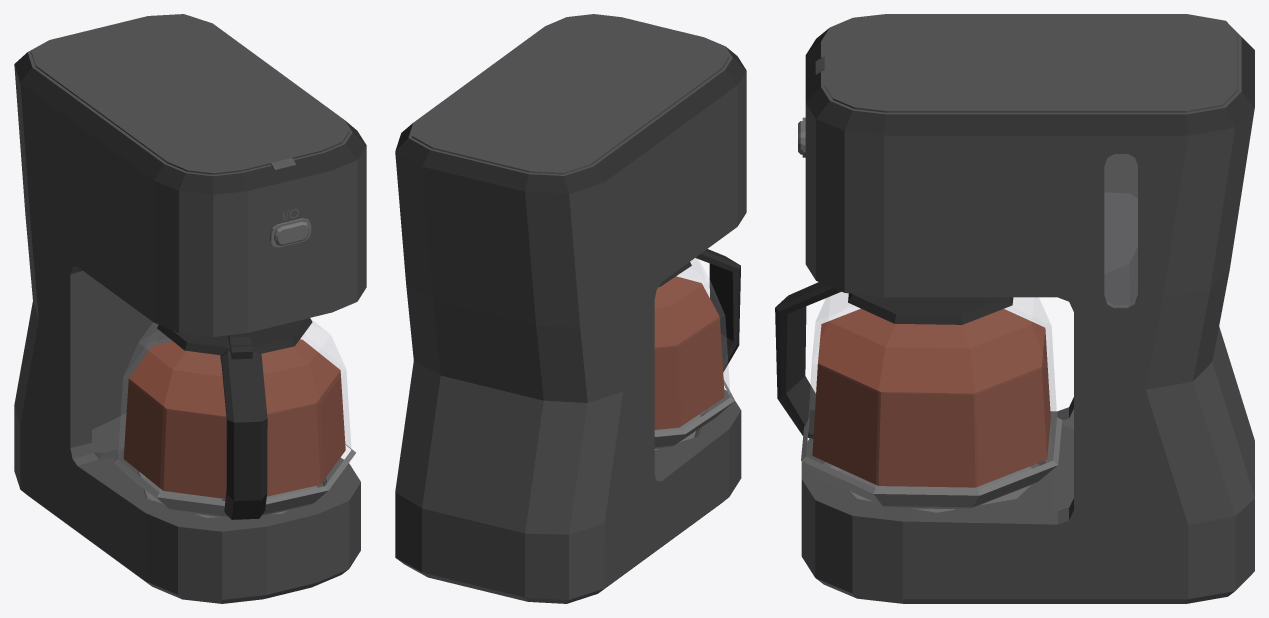
The model's file is coffee_machine.glb.
The picture shows the model from 3 angles, left to right: view 1: azimuth 30°, elevation 25°; view 2: azimuth 150°, elevation 25°; view 3: azimuth 270°, elevation 25°; orthographic projection. The views are drawn at different scales.
Visible parts, largest first — view 1: Machine_Cube.001, Jug_Cylinder.003; view 2: Machine_Cube.001, Jug_Cylinder.003; view 3: Machine_Cube.001, Jug_Cylinder.003.
Boxes of the visible parts, box(x1,y1,x2,y2) form: Machine_Cube.001: box(14, 14, 366, 603); Jug_Cylinder.003: box(123, 339, 345, 498); Machine_Cube.001: box(395, 14, 746, 603); Jug_Cylinder.003: box(654, 276, 724, 429); Machine_Cube.001: box(775, 14, 1254, 603); Jug_Cylinder.003: box(812, 308, 1050, 487).
Size of the model in its own units: 0.9107 by 1.83 by 1.63.
Materials: 3 (3 with a texture image).
